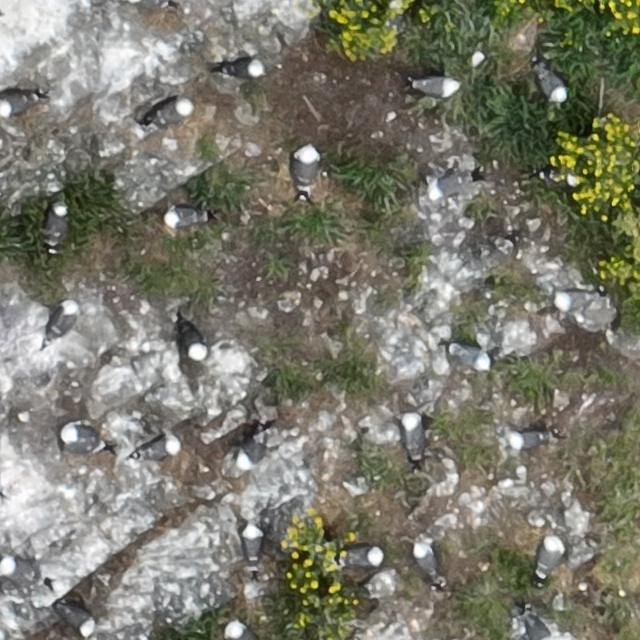umineko: (59, 423, 108, 458), (430, 168, 480, 201), (451, 346, 492, 370), (538, 70, 567, 103), (413, 543, 438, 581), (152, 101, 190, 126), (538, 535, 562, 573), (236, 436, 266, 466), (415, 77, 459, 97), (294, 147, 316, 187), (342, 546, 383, 567), (536, 167, 579, 187), (51, 302, 76, 336), (404, 417, 424, 458), (62, 607, 92, 634), (2, 560, 41, 580), (47, 204, 67, 242), (223, 59, 262, 78), (556, 291, 595, 310), (142, 438, 179, 458), (1, 92, 34, 114), (184, 326, 206, 358), (168, 209, 204, 228), (243, 526, 261, 562), (513, 432, 544, 449), (230, 624, 260, 640), (127, 0, 165, 8)
